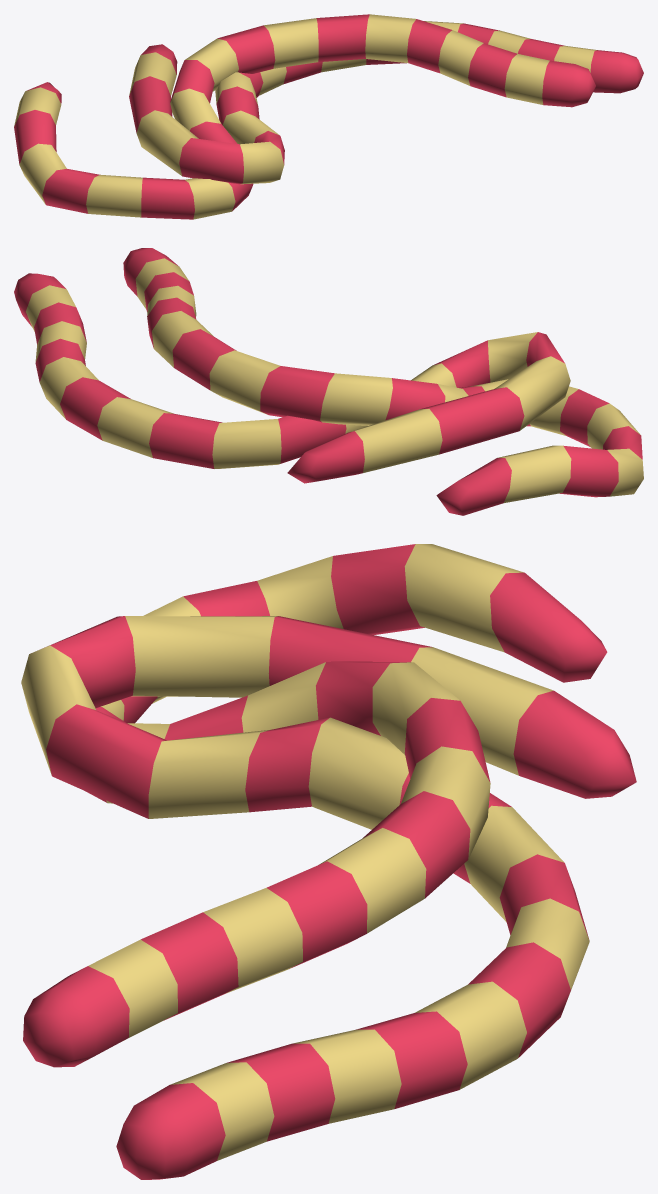
The model's file is Dirt_5.fbx.
The picture shows the model from 3 angles, top to bottom: view 1: azimuth 30°, elevation 25°; view 2: azimuth 150°, elevation 25°; view 3: azimuth 270°, elevation 25°; orthographic projection. The views are drawn at different scales.
Parts seen in each view (by area): view 1: Dirt_5; view 2: Dirt_5; view 3: Dirt_5.
Part boxes in pixels (x1,y1,x2,y2): Dirt_5: (14, 14, 643, 219); Dirt_5: (14, 248, 643, 515); Dirt_5: (21, 544, 636, 1179).
Size of the model in its own units: 26.87 by 3.87 by 12.49.
